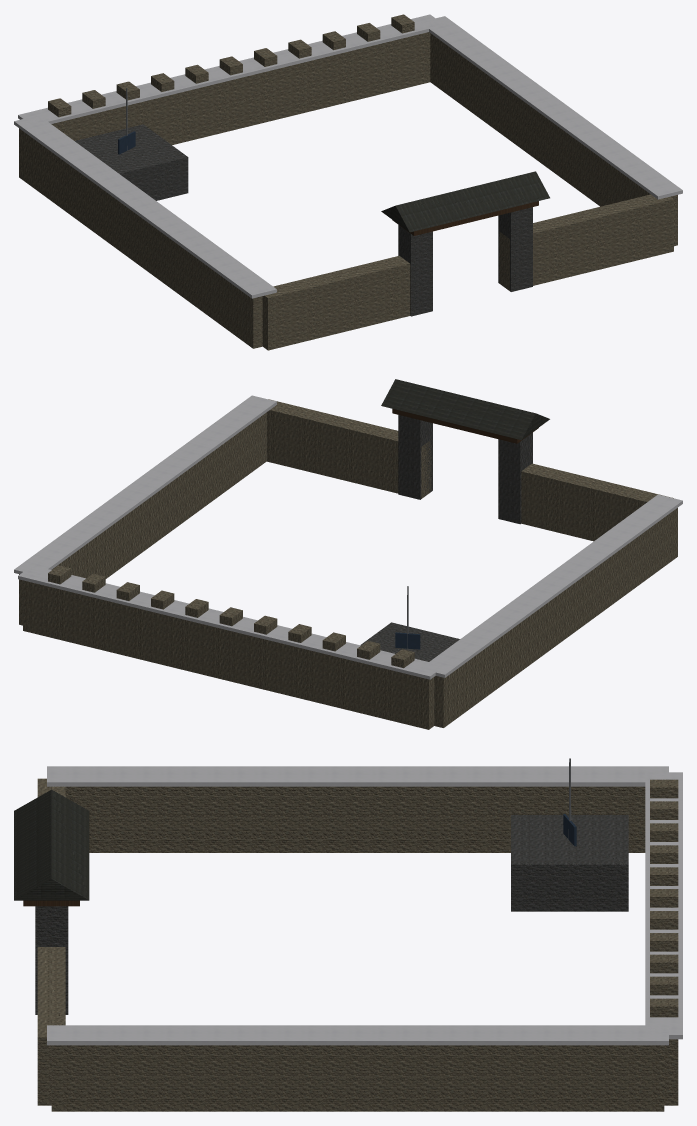
The model's file is frost_fort_01.glb.
The picture shows the model from 3 angles, top to bottom: view 1: azimuth 30°, elevation 25°; view 2: azimuth 150°, elevation 25°; view 3: azimuth 270°, elevation 25°; orthographic projection. The views are drawn at different scales.
Visible parts, largest first — view 1: frost_fort_01; view 2: frost_fort_01; view 3: frost_fort_01.
Part boxes in pixels (bbox=[...]): frost_fort_01: bbox=[14, 14, 682, 350]; frost_fort_01: bbox=[14, 379, 682, 729]; frost_fort_01: bbox=[14, 758, 682, 1111].
Size of the model in its own units: 27.6 by 6.65 by 28.4.
7 materials, 7 textured.
